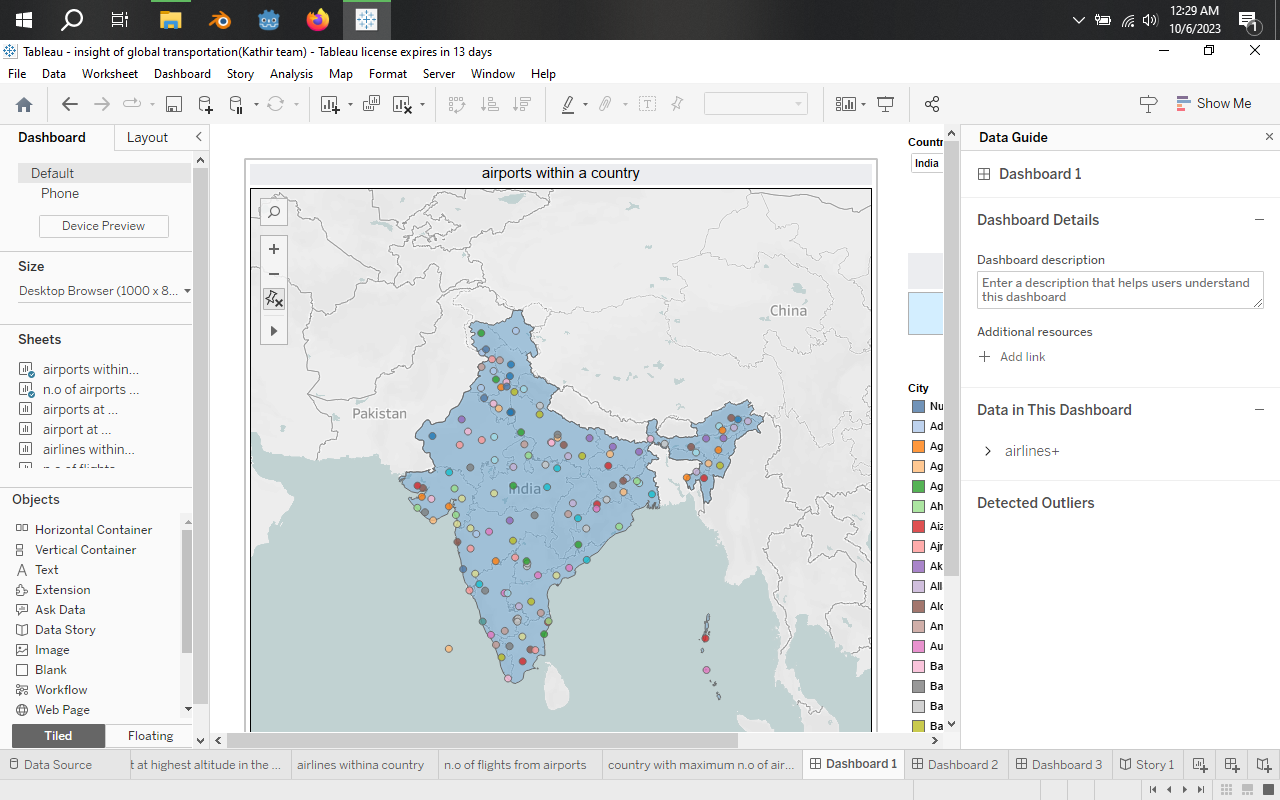

This screenshot's page, from the dashboard's own definition file:
{"tool":"tableau","page":{"name":"Dashboard 1","canvas":[1000,800],"ordinal":0},"visuals":[{"type":"filter","title":"airports within a country","param":"[federated.053kswo1am6z3912eajnk0m592e1].[none:Country (airports.csv):nk]","box":[694,8,298,117]},{"type":"worksheet","title":"airports within a country","mark":"Multipolygon","rows":["Latitude"],"cols":["Longitude","Longitude"],"box":[36,36,630,728]},{"type":"worksheet","title":"n.o of airports in a country","mark":"Automatic","box":[694,125,298,129]},{"type":"legend","title":"airports within a country","param":"[federated.053kswo1am6z3912eajnk0m592e1].[none:City:nk]","box":[694,254,298,538]}]}

Visuals, with their boxes on the page's 1000x800 design canvas (x1, y1, x2, y2). These are canvas units, not pixel positions in the 1280x800 screenshot, which may show the page scaled, cropped or inside an application window:
"airports within a country" filter: [694,8,992,125]
"airports within a country" worksheet (Multipolygon marks): [36,36,666,764]
"n.o of airports in a country" worksheet: [694,125,992,254]
"airports within a country" legend: [694,254,992,792]
